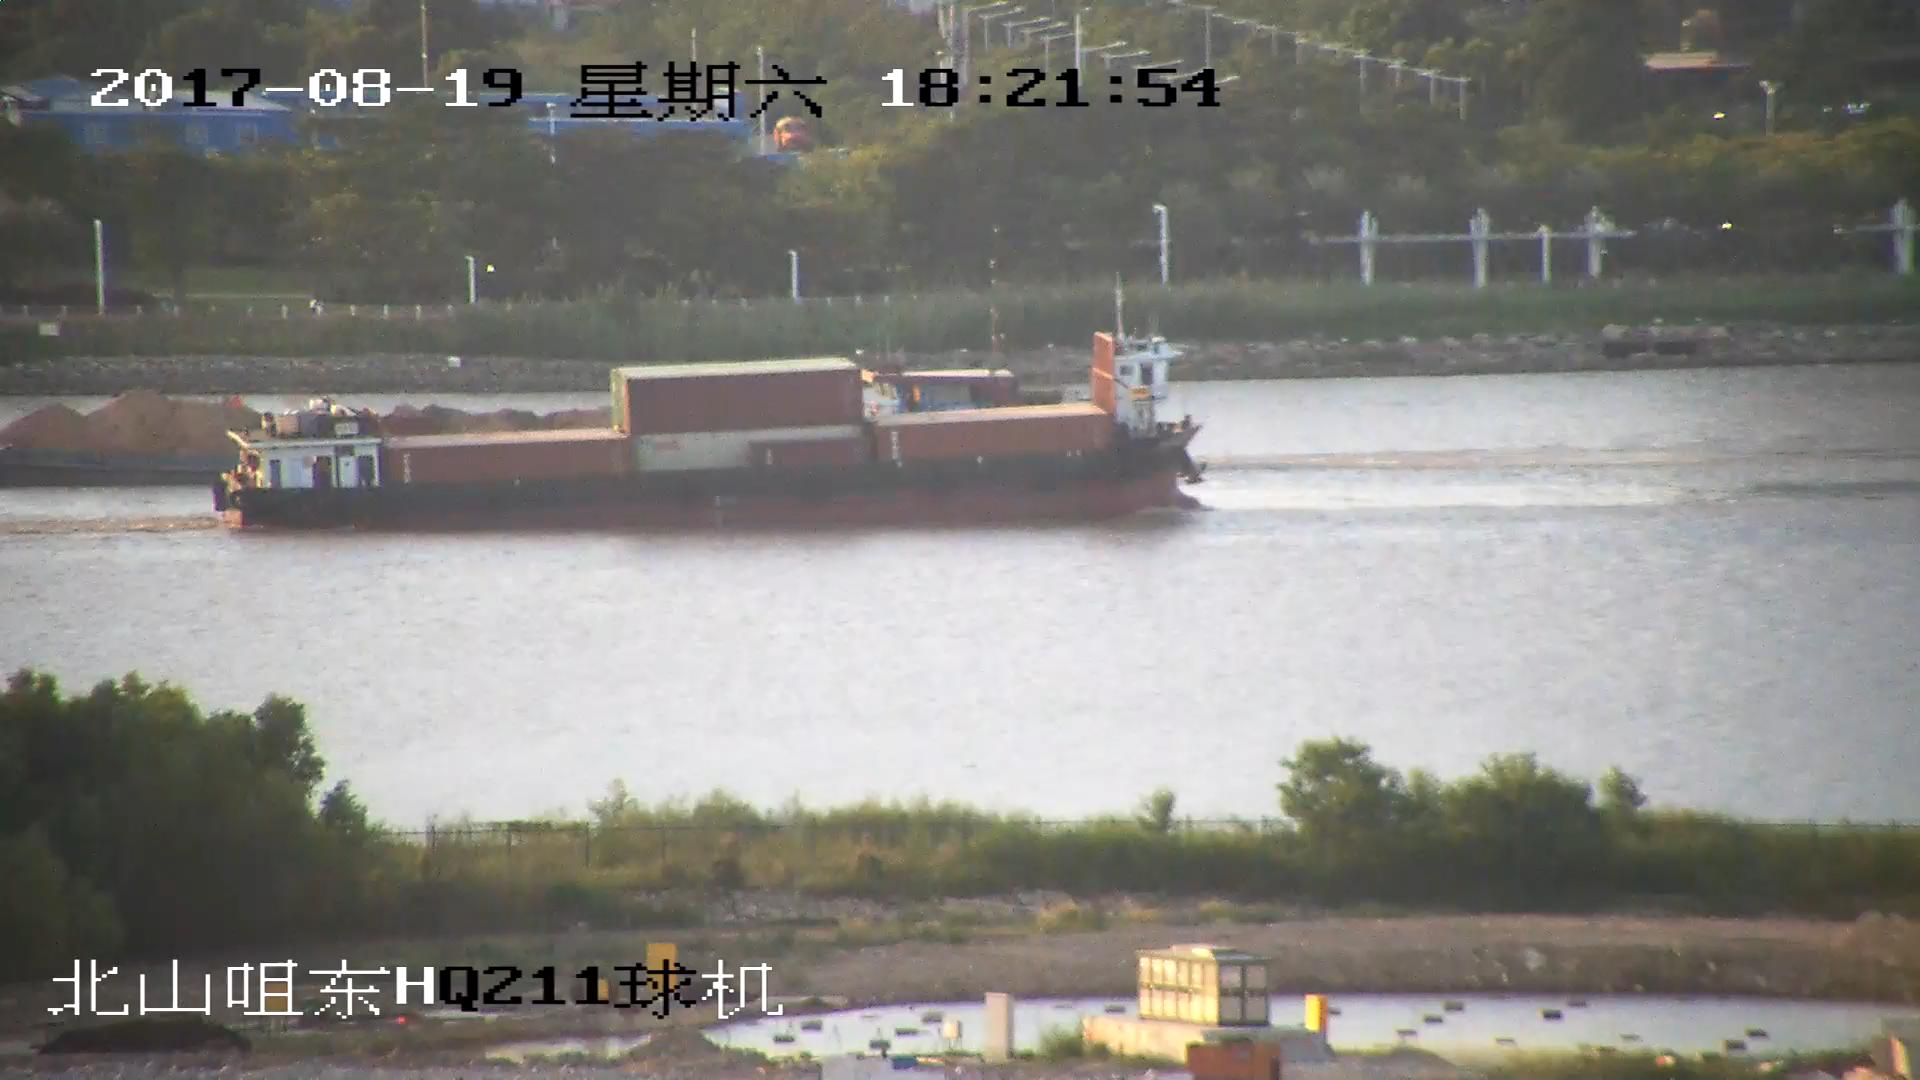container ship: (218, 329, 1203, 527)
ore carrier: (1, 386, 242, 477)
